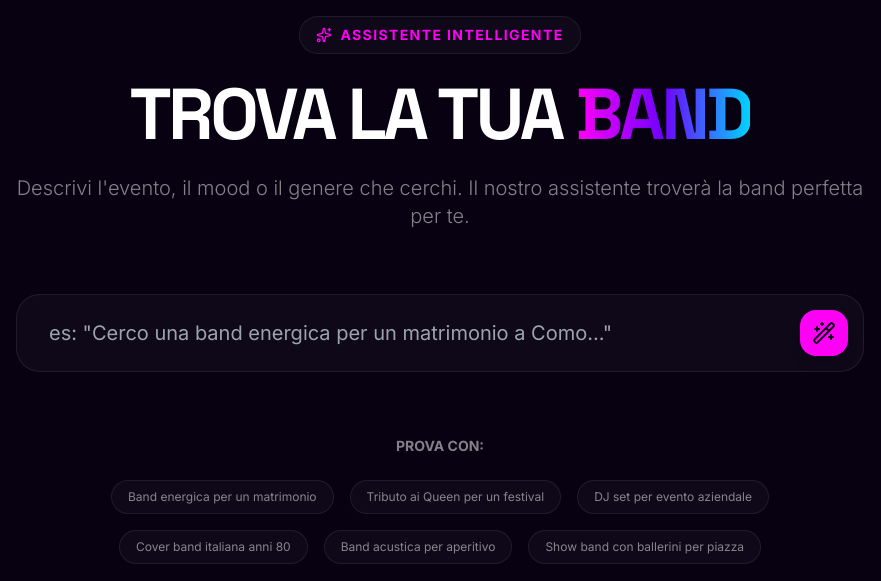
Test: BandFinder › fills search input when suggestion is clicked
The image size is (881, 581).
What coordinates should you click on to do the following:
click the button "Band energica per un matrimonio"
I would click on:
 (222, 497)
Its box is [111,480,334,514].
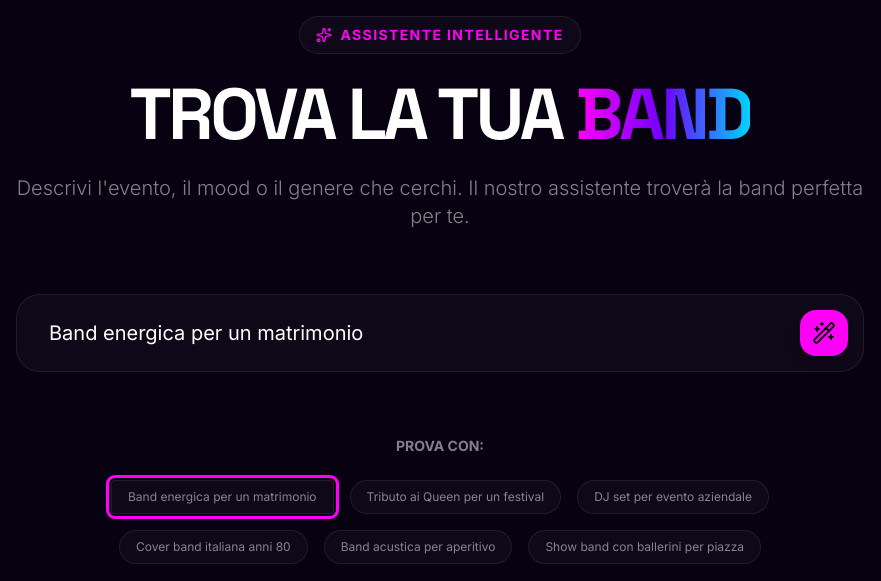
Check: the field named "Descrivi la band che cerchi" holds "Band energica per un matrimonio", box [16,294,864,372]
